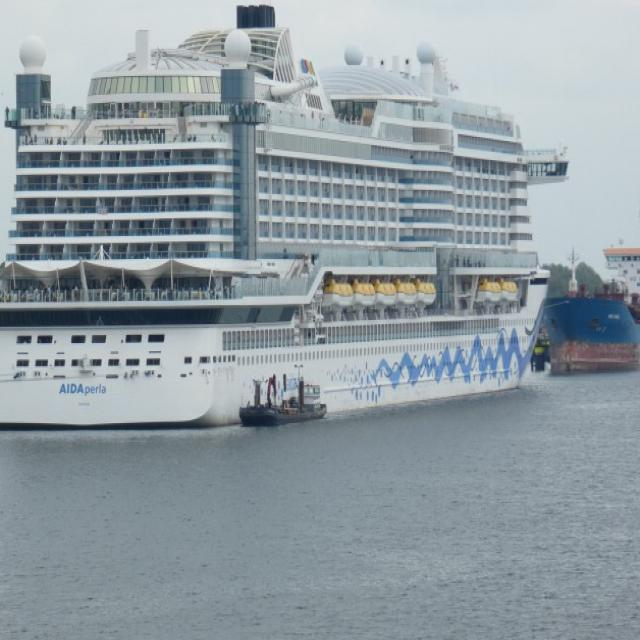cruises: (1, 1, 571, 431)
